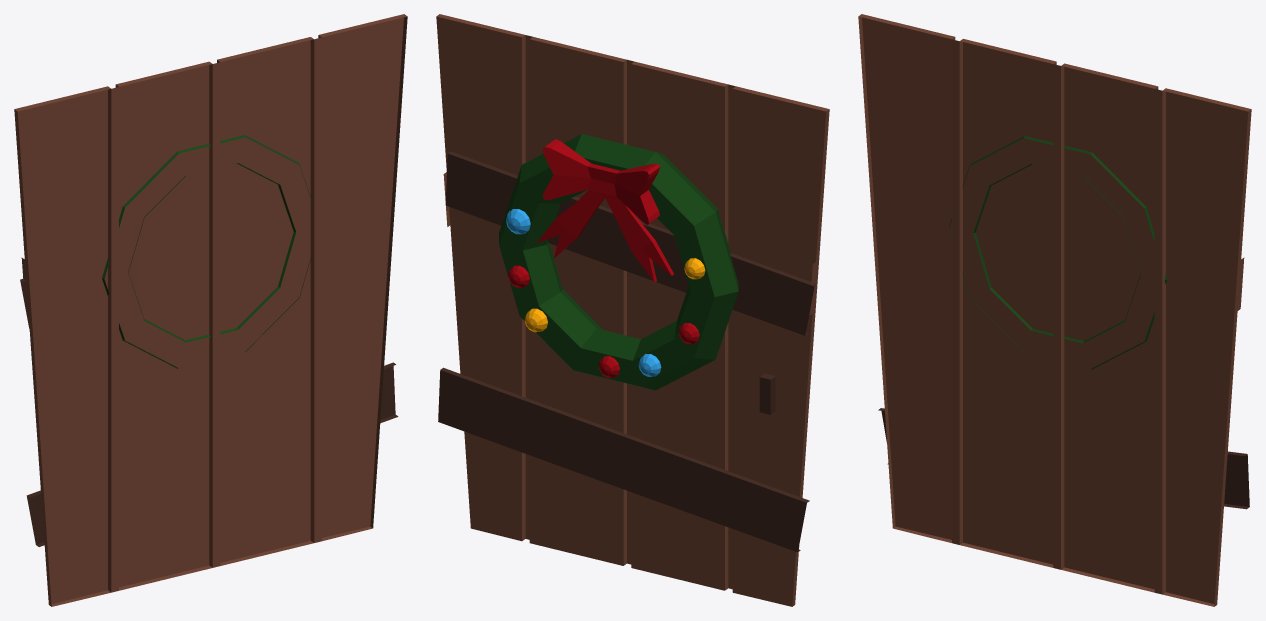
File: Door.fbx
The picture shows the model from 3 angles, left to right: view 1: azimuth 30°, elevation 25°; view 2: azimuth 150°, elevation 25°; view 3: azimuth 330°, elevation 25°; orthographic projection.
Parts seen in each view (by area): view 1: Door; view 2: Door; view 3: Door.
Boxes of the visible parts, x1,y1,x2,y2 form: Door: (14, 14, 407, 606); Door: (436, 14, 829, 606); Door: (858, 14, 1251, 606).
Bounding box in the file's own units: 210 × 259 × 34.63.
Materials: 1 (1 with a texture image).
